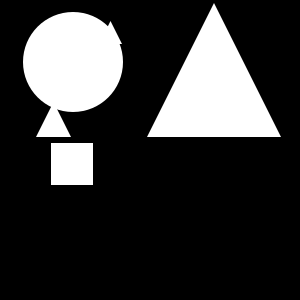circle: (51, 143, 93, 185)
rectangle: (23, 12, 123, 112)
triangle: (147, 3, 281, 137), (36, 102, 71, 137), (99, 21, 122, 44)
